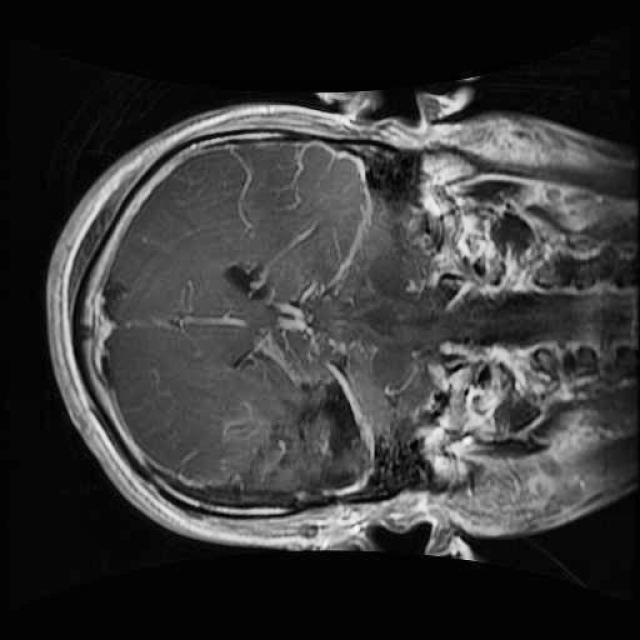Non-Tumor: (239, 318, 401, 535)
